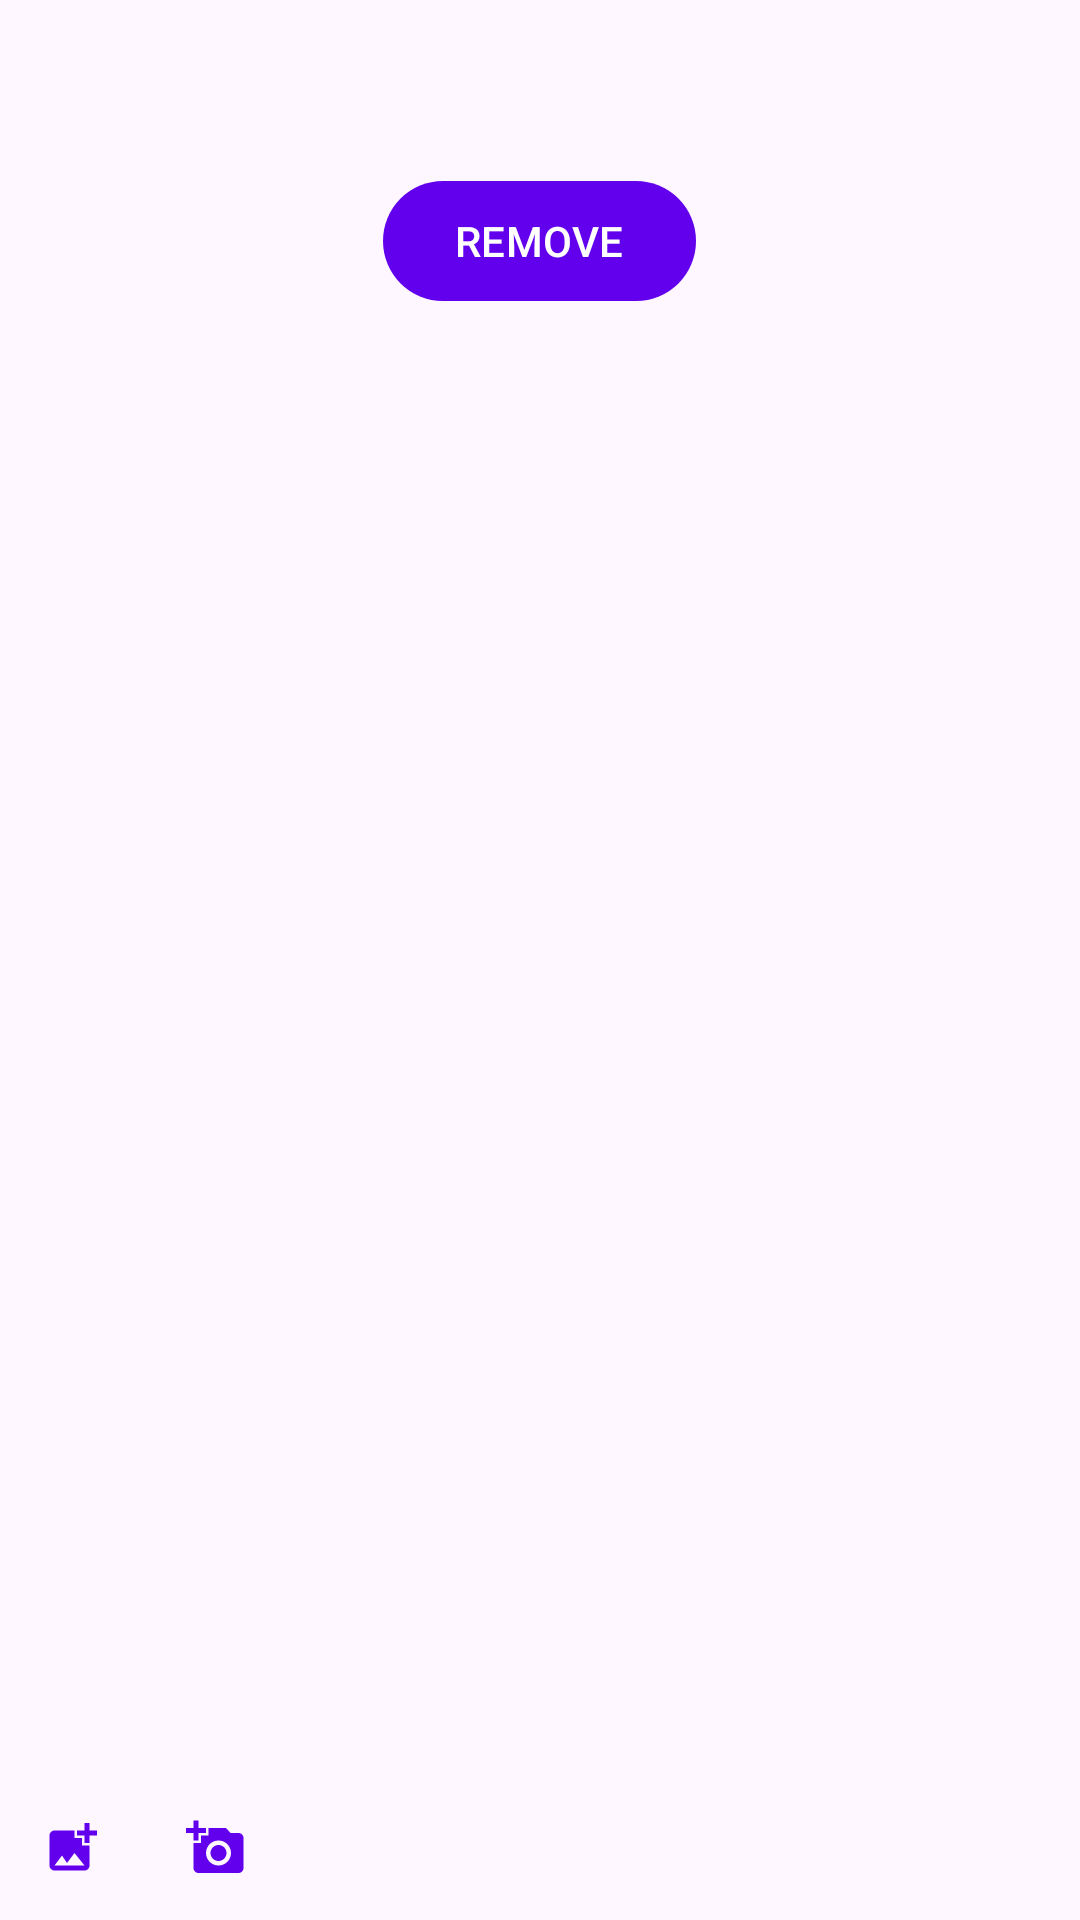

Named icons in this screenshot (1080px×1920px) and their bounding boxes, (x1, y1, x2, y2):
camera: (186, 1820, 244, 1873)
photo: (49, 1823, 97, 1871)
